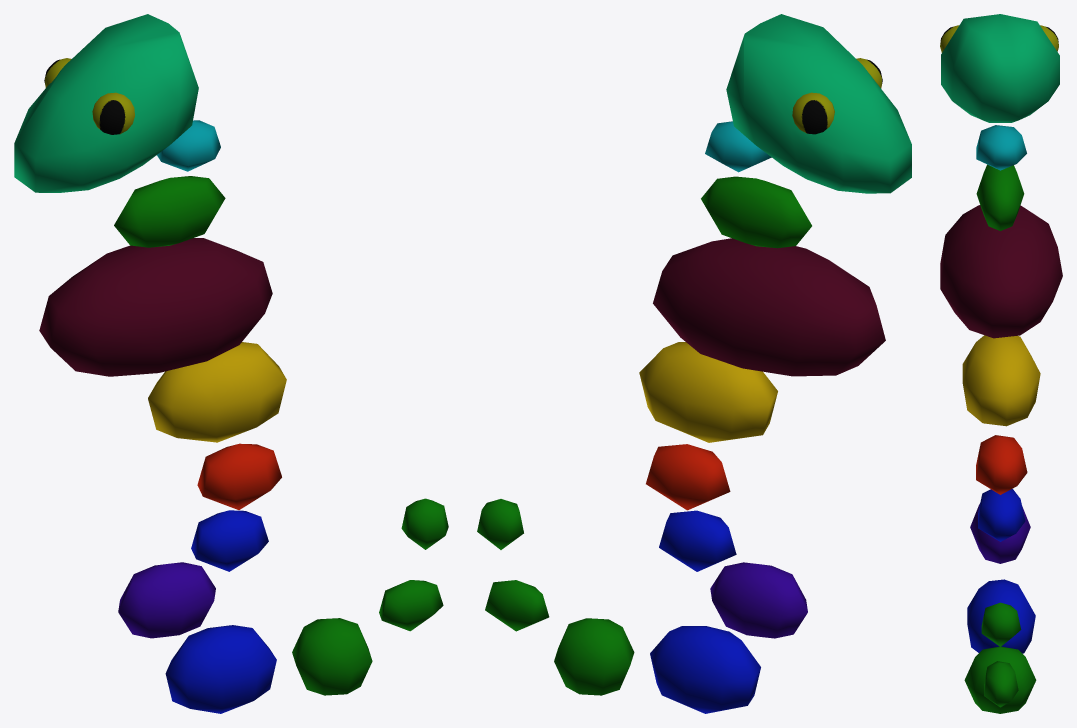
The model's file is hahmo1.FBX.
The picture shows the model from 3 angles, left to right: view 1: azimuth 30°, elevation 25°; view 2: azimuth 150°, elevation 25°; view 3: azimuth 270°, elevation 25°; orthographic projection. The views are drawn at different scales.
Parts seen in each view (by area): view 1: chest, head, tail1, tail5, tail4, neck2, tail6, tail2, tail3, tail7, neck1, tail8 (+1 smaller); view 2: chest, head, tail1, tail5, tail4, neck2, tail6, tail2, tail3, tail7, neck1, tail8 (+1 smaller); view 3: chest, head, tail1, tail5, tail6, tail2, neck2, tail3, neck1, tail4, tail8, tail7 (+1 smaller).
Part boxes in pixels (bbox=[...]): chest: bbox=[39, 238, 272, 376]; head: bbox=[14, 14, 198, 192]; tail1: bbox=[148, 342, 286, 442]; tail5: bbox=[165, 625, 276, 713]; tail4: bbox=[118, 562, 215, 638]; neck2: bbox=[114, 176, 225, 247]; tail6: bbox=[292, 618, 372, 695]; tail2: bbox=[197, 443, 281, 509]; tail3: bbox=[191, 510, 268, 571]; tail7: bbox=[379, 580, 443, 631]; neck1: bbox=[157, 120, 220, 171]; tail8: bbox=[401, 498, 448, 549]; chest: bbox=[653, 238, 885, 376]; head: bbox=[726, 14, 911, 193]; tail1: bbox=[639, 342, 777, 442]; tail5: bbox=[650, 626, 760, 713]; tail4: bbox=[710, 562, 807, 638]; neck2: bbox=[701, 176, 811, 248]; tail6: bbox=[554, 618, 634, 695]; tail2: bbox=[646, 444, 730, 510]; tail3: bbox=[659, 510, 736, 571]; tail7: bbox=[485, 580, 549, 631]; neck1: bbox=[705, 121, 771, 172]; tail8: bbox=[477, 499, 523, 549]; chest: bbox=[940, 205, 1062, 338]; head: bbox=[941, 14, 1059, 122]; tail1: bbox=[962, 335, 1040, 426]; tail5: bbox=[967, 579, 1035, 653]; tail6: bbox=[964, 646, 1036, 713]; tail2: bbox=[976, 435, 1027, 494]; neck2: bbox=[976, 164, 1024, 230]; tail3: bbox=[978, 489, 1025, 541]; neck1: bbox=[976, 125, 1026, 170]; tail4: bbox=[970, 503, 1030, 563]; tail8: bbox=[981, 602, 1021, 646]; tail7: bbox=[984, 661, 1018, 707].
Bounding box in the file's own units: 4.94 × 7.96 × 1.45.
